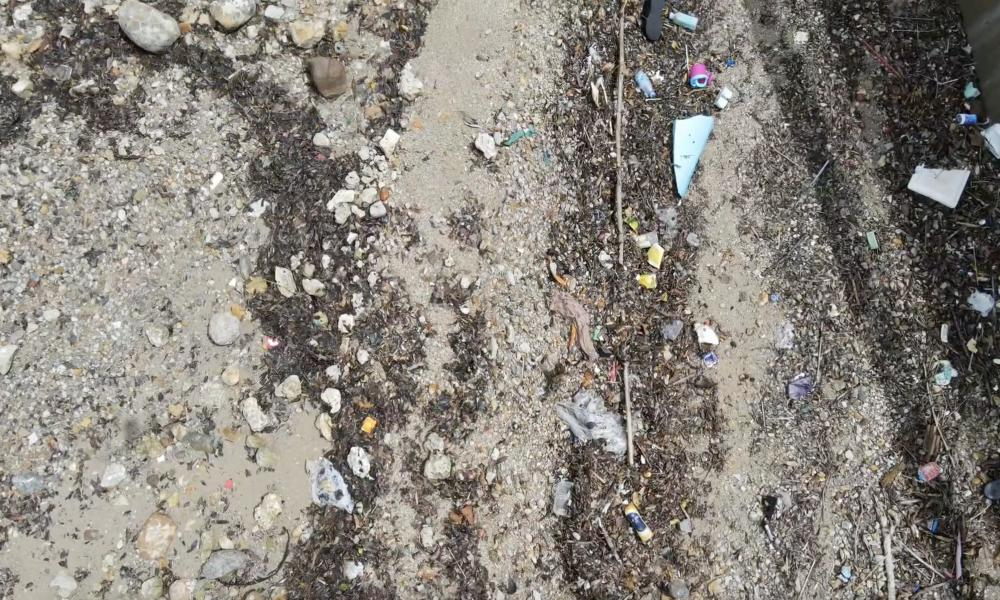carton: (646, 241, 672, 268), (636, 265, 662, 289)
plastic bag: (552, 387, 642, 458), (303, 458, 363, 510), (960, 288, 1000, 322), (781, 322, 807, 350)
plastic bottle: (618, 494, 656, 550), (662, 4, 703, 39), (628, 67, 658, 104)
plastic container: (665, 312, 693, 350)
